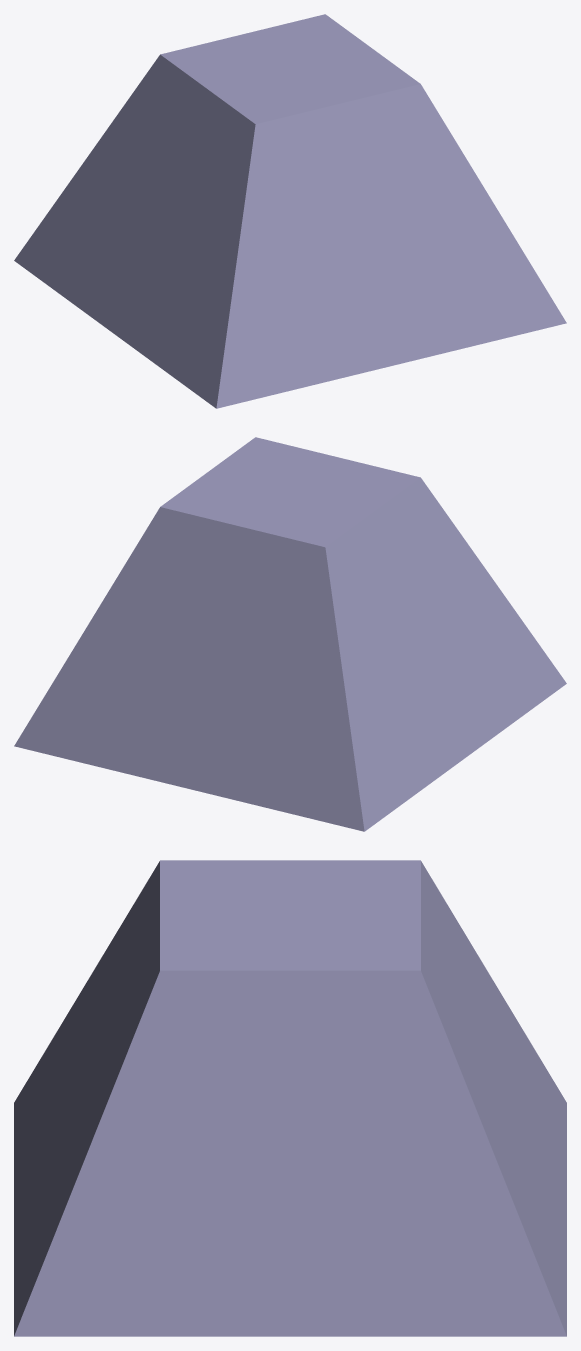
The model's file is historico_tronco_piramide_didactico.glb.
3 renders of one model, top to bottom at view 1: azimuth 30°, elevation 25°; view 2: azimuth 150°, elevation 25°; view 3: azimuth 270°, elevation 25°, orthographic. The views are drawn at different scales.
Visible parts, largest first — view 1: world; view 2: world; view 3: world.
Boxes of the visible parts, left/top/right/bottom form: world: left=14, top=14, right=566, bottom=408; world: left=14, top=437, right=566, bottom=831; world: left=14, top=860, right=566, bottom=1336.
Bounding box in the file's own units: 1.4 × 0.85 × 1.4.
